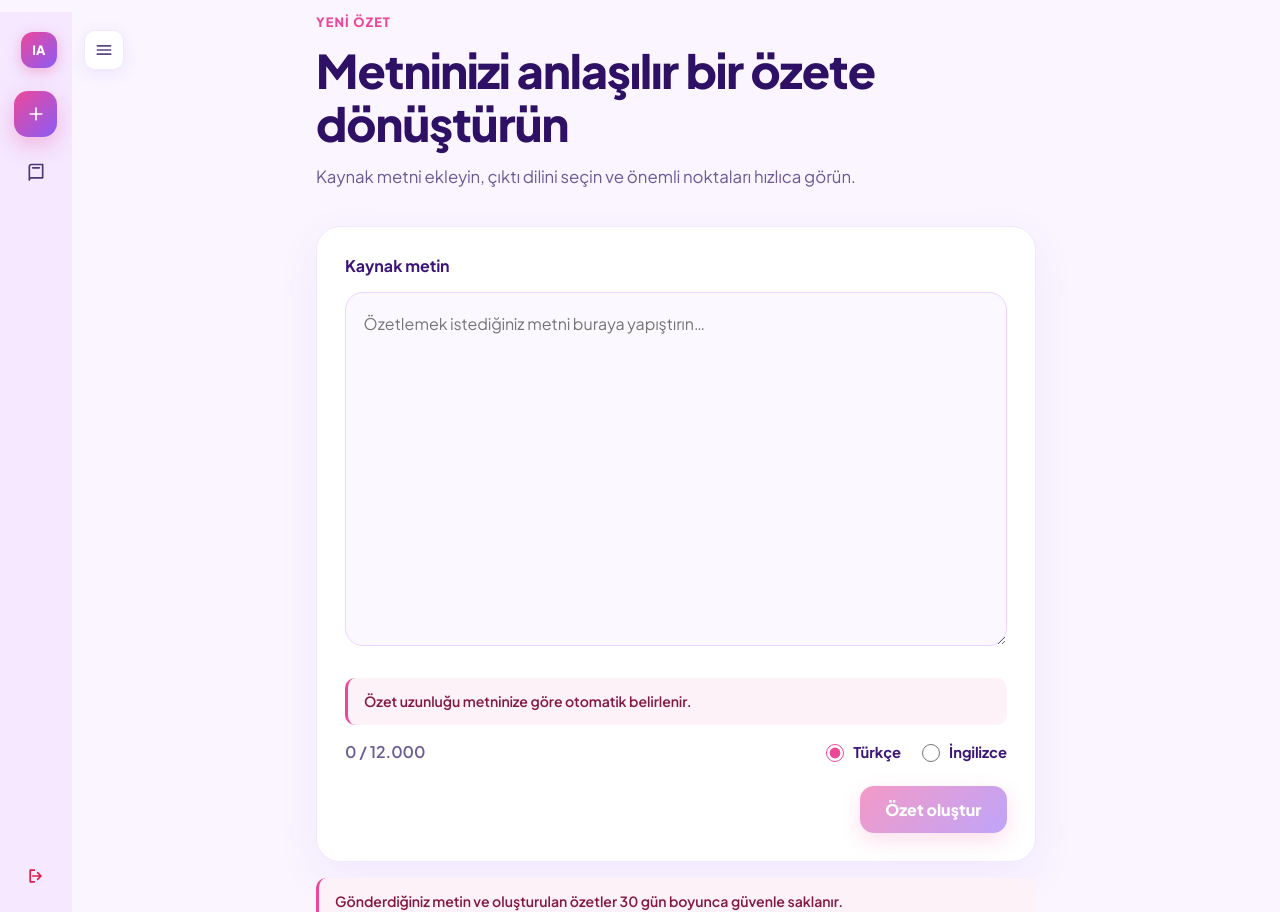
product workspace › keeps cards compact and loads source plus summary detail on demand
The width and height of the screenshot is (1280, 912).
Click the button named "Kitaplık": (36, 172) [14,151,57,192]
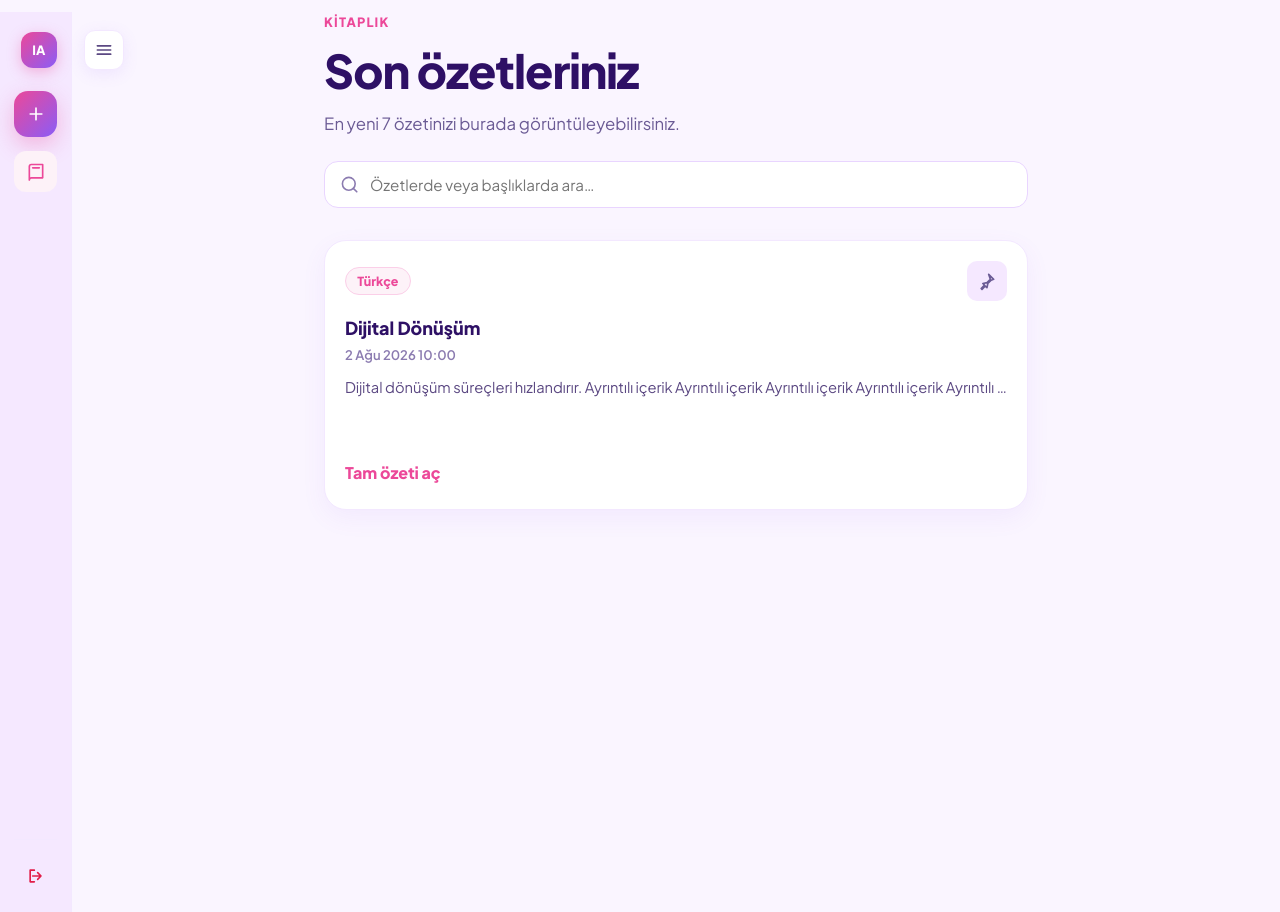
Expected: the text "İkinci kaynak satırı" is not shown
Click the button "Tam özeti aç": (393, 472) [345,455,441,489]
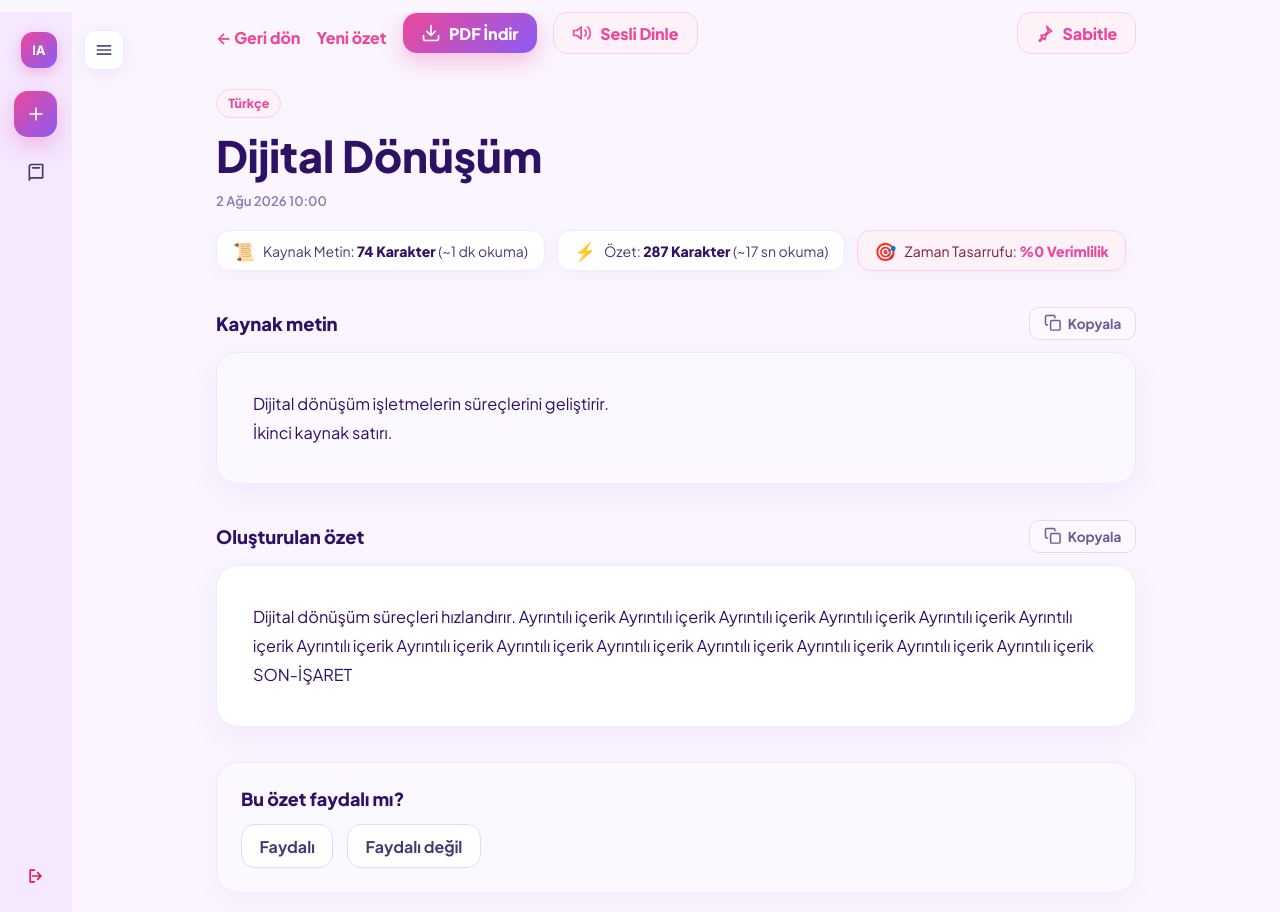
Expected: the heading "Kaynak metin" is shown, [216,312,338,335]
Expected: the heading "Oluşturulan özet" is shown, [216,525,364,548]
Expected: the text "İkinci kaynak satırı" is shown, [253,393,609,443]
Click the button "← Geri dön": (258, 37) [216,20,300,54]
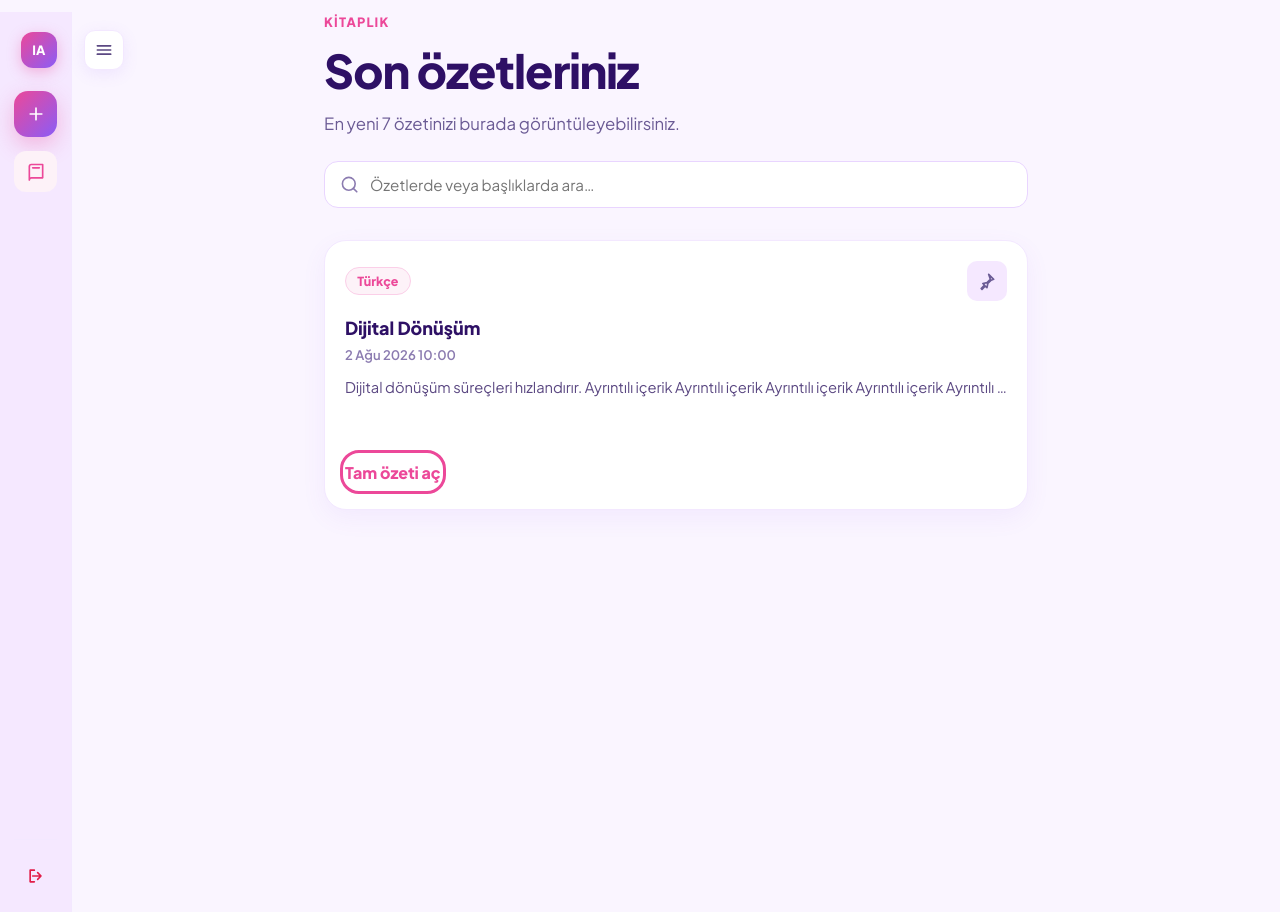
Expected: the heading "Son özetleriniz" is shown, [324,40,638,98]
